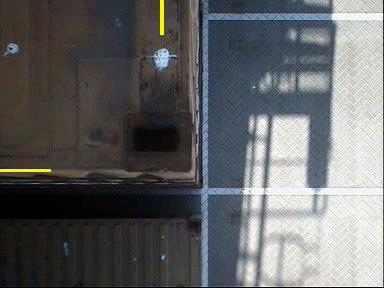groundmarker_2: (127, 139, 219, 284)
